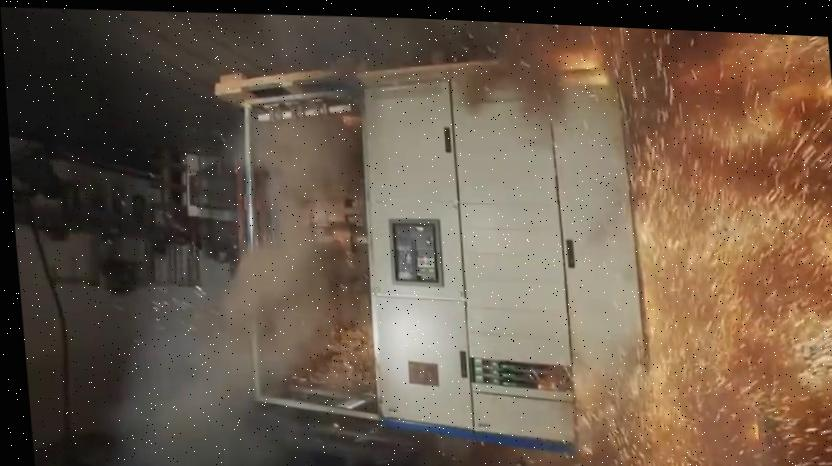fire: (506, 35, 832, 323), (526, 264, 832, 466)
